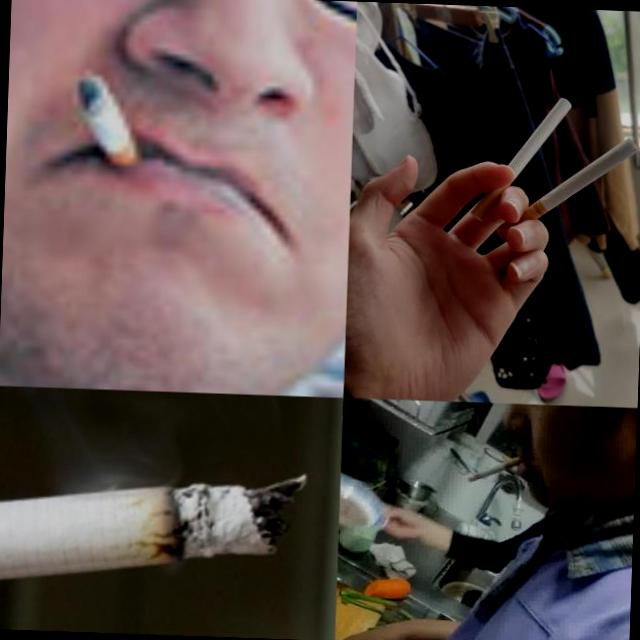cigarette: (0, 456, 314, 611), (495, 132, 640, 248), (470, 94, 572, 226), (70, 72, 153, 187), (468, 452, 522, 484)
